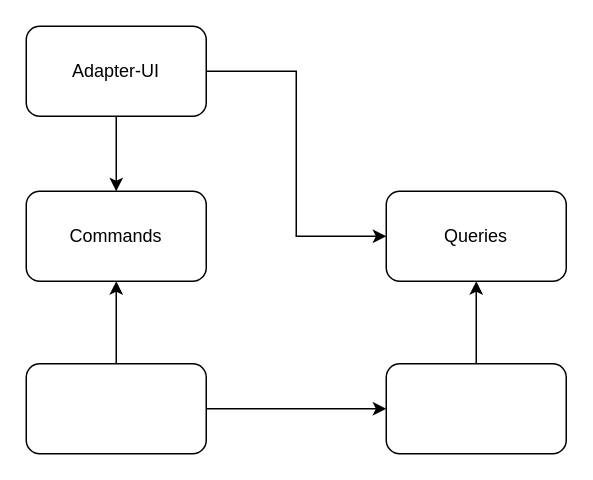
Image size: 593x480. Some labels were removed from this diagram. Here are the shapes that lost their labels. From the top down, the centre of each, then its label:
At point (115, 408): "Core".
At point (475, 408): "Adapter-SQL".
